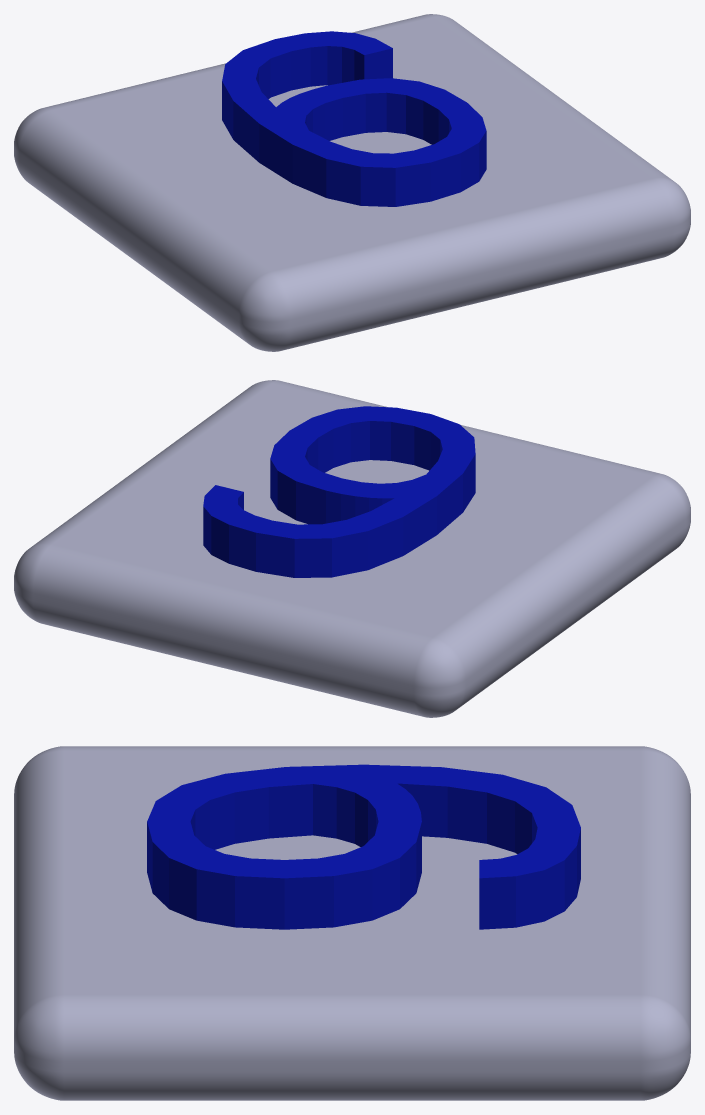
Rendered from button6.glb.
3 views of the same model, one above another, from view 1: azimuth 30°, elevation 25°; view 2: azimuth 150°, elevation 25°; view 3: azimuth 270°, elevation 25° (orthographic). The views are drawn at different scales.
Visible parts, largest first — view 1: Box, 3D Text - 6; view 2: Box, 3D Text - 6; view 3: Box, 3D Text - 6.
Boxes of the visible parts, x1,y1,x2,y2 form: Box: (14, 14, 690, 351); 3D Text - 6: (222, 31, 486, 206); Box: (14, 380, 690, 717); 3D Text - 6: (203, 406, 475, 577); Box: (14, 746, 690, 1100); 3D Text - 6: (147, 764, 580, 929).
Size of the model in its own units: 0.1 by 0.0249 by 0.1.
